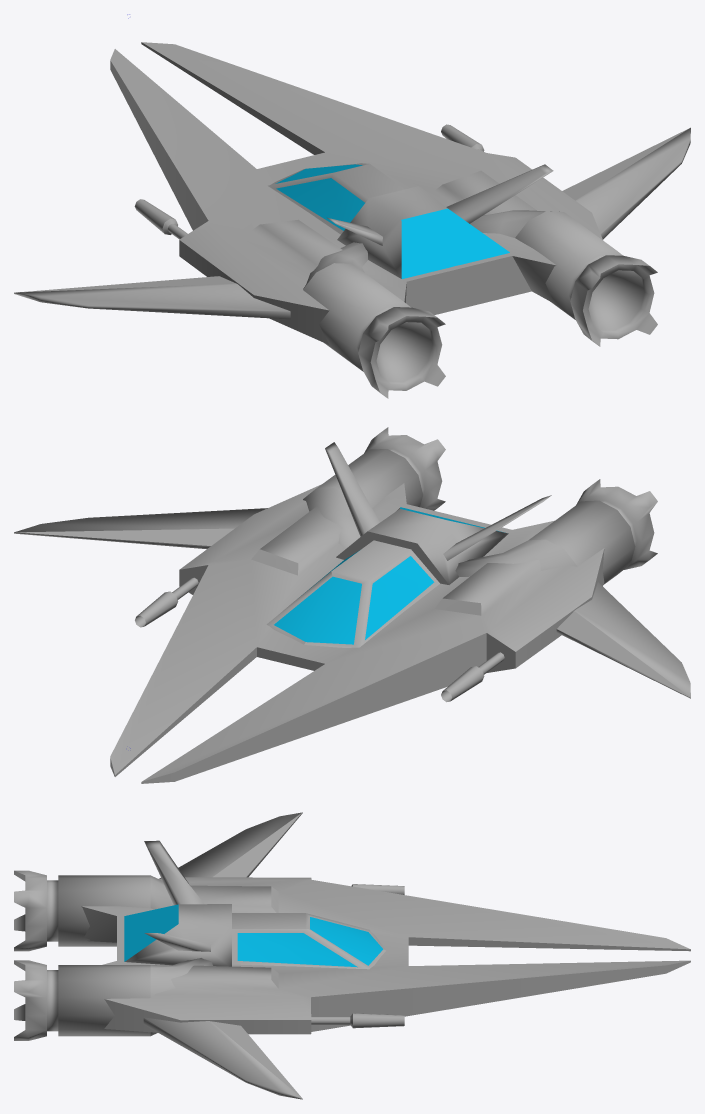
File: X Fighter.fbx
3 views of the same model, one above another, from view 1: azimuth 30°, elevation 25°; view 2: azimuth 150°, elevation 25°; view 3: azimuth 270°, elevation 25° (orthographic). The views are drawn at different scales.
Visible parts, largest first — view 1: alieronr; view 2: alieronr; view 3: alieronr.
Part boxes in pixels (x1,y1,x2,y2): alieronr: [14, 14, 690, 398]; alieronr: [14, 427, 690, 783]; alieronr: [14, 812, 690, 1099].
Size of the model in its own units: 7.39 by 1.22 by 7.39.
